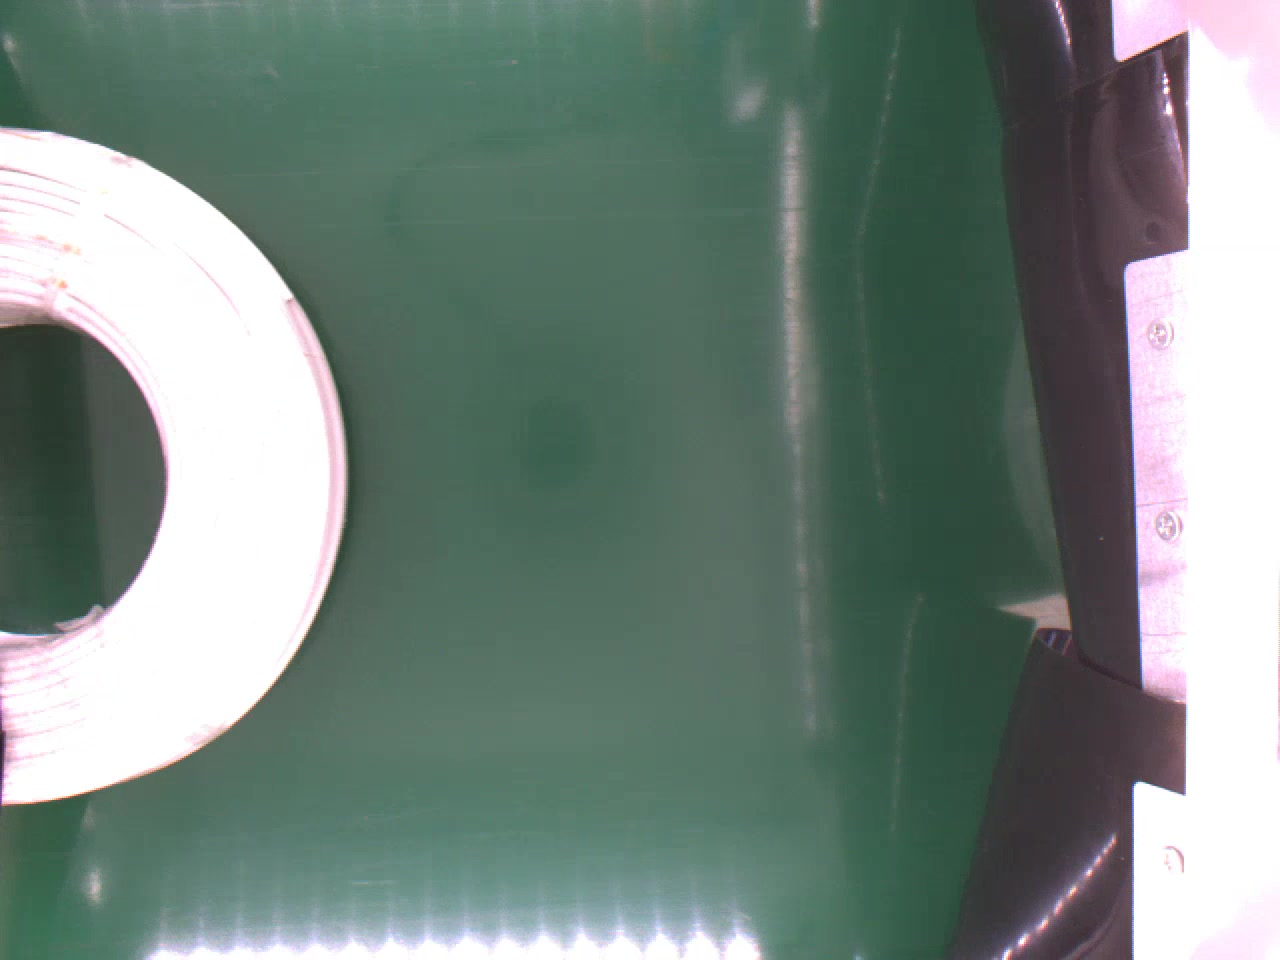white: (0, 127, 351, 809)
